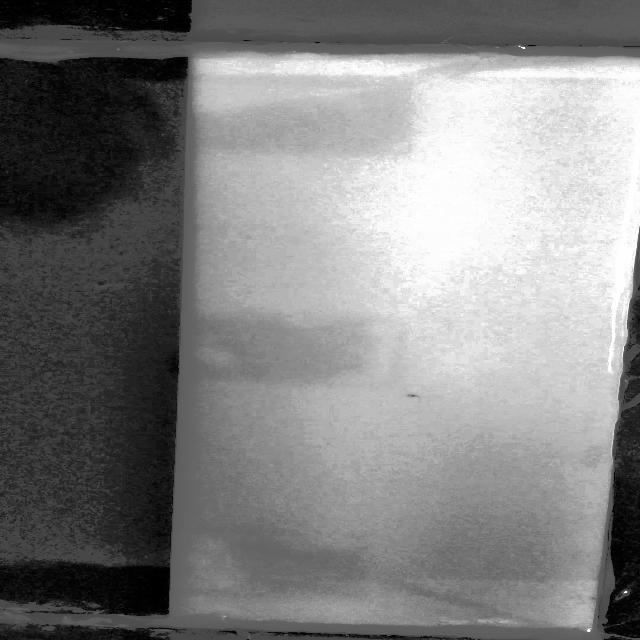shrimp: (405, 392, 428, 401)
